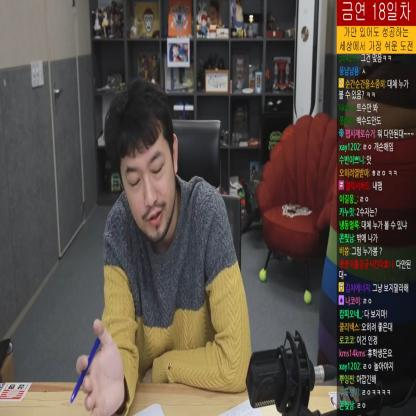streamer: (76, 79, 252, 416)
